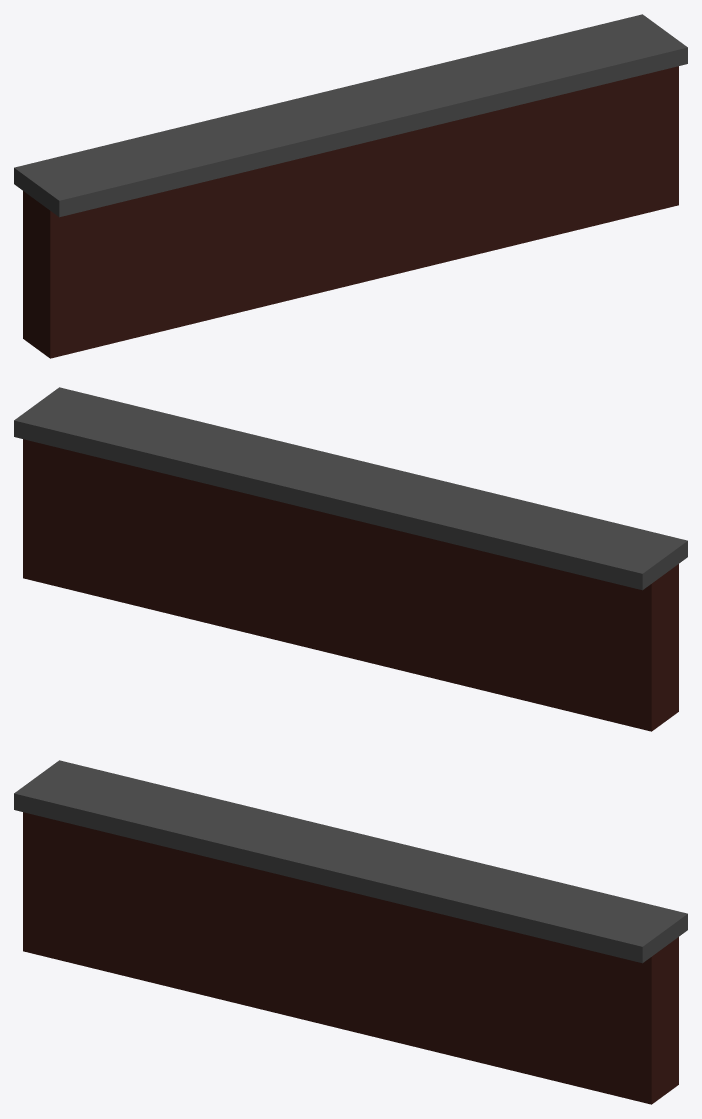
The model's file is KIT_RoofParapet_4m_BrickDark.glb.
3 renders of one model, top to bottom at view 1: azimuth 30°, elevation 25°; view 2: azimuth 150°, elevation 25°; view 3: azimuth 330°, elevation 25°, orthographic.
Visible parts, largest first — view 1: KIT_RoofParapet_4m_BrickDark; view 2: KIT_RoofParapet_4m_BrickDark; view 3: KIT_RoofParapet_4m_BrickDark.
Part boxes in pixels (box(x1,y1,x2,y2)): KIT_RoofParapet_4m_BrickDark: box(14, 14, 687, 358); KIT_RoofParapet_4m_BrickDark: box(14, 387, 687, 731); KIT_RoofParapet_4m_BrickDark: box(14, 760, 687, 1104).
Size of the model in its own units: 4 by 1 by 0.5.
